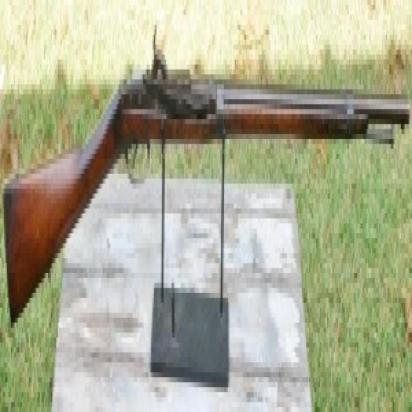Gun: (0, 38, 412, 349)
